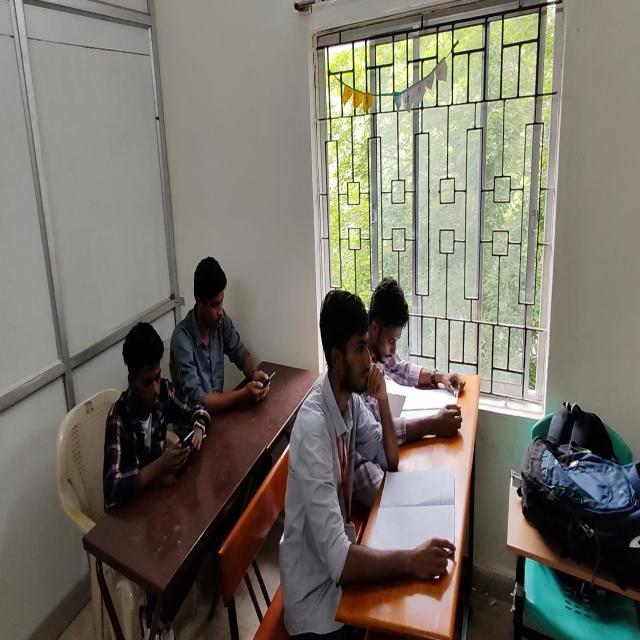reading: (298, 290, 438, 639), (372, 274, 465, 396)
using_mobile: (104, 319, 215, 515), (166, 257, 268, 443)
